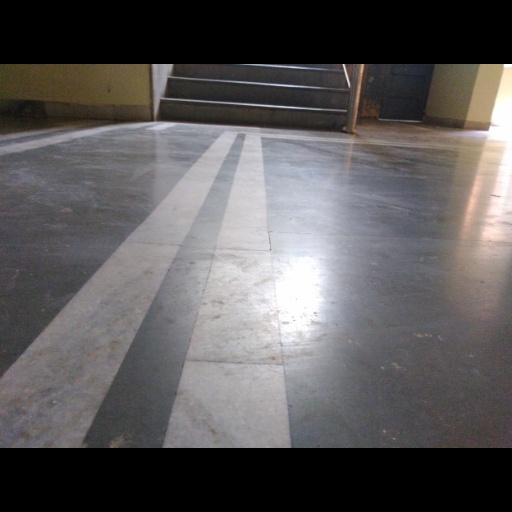stairs: (160, 64, 349, 129)
